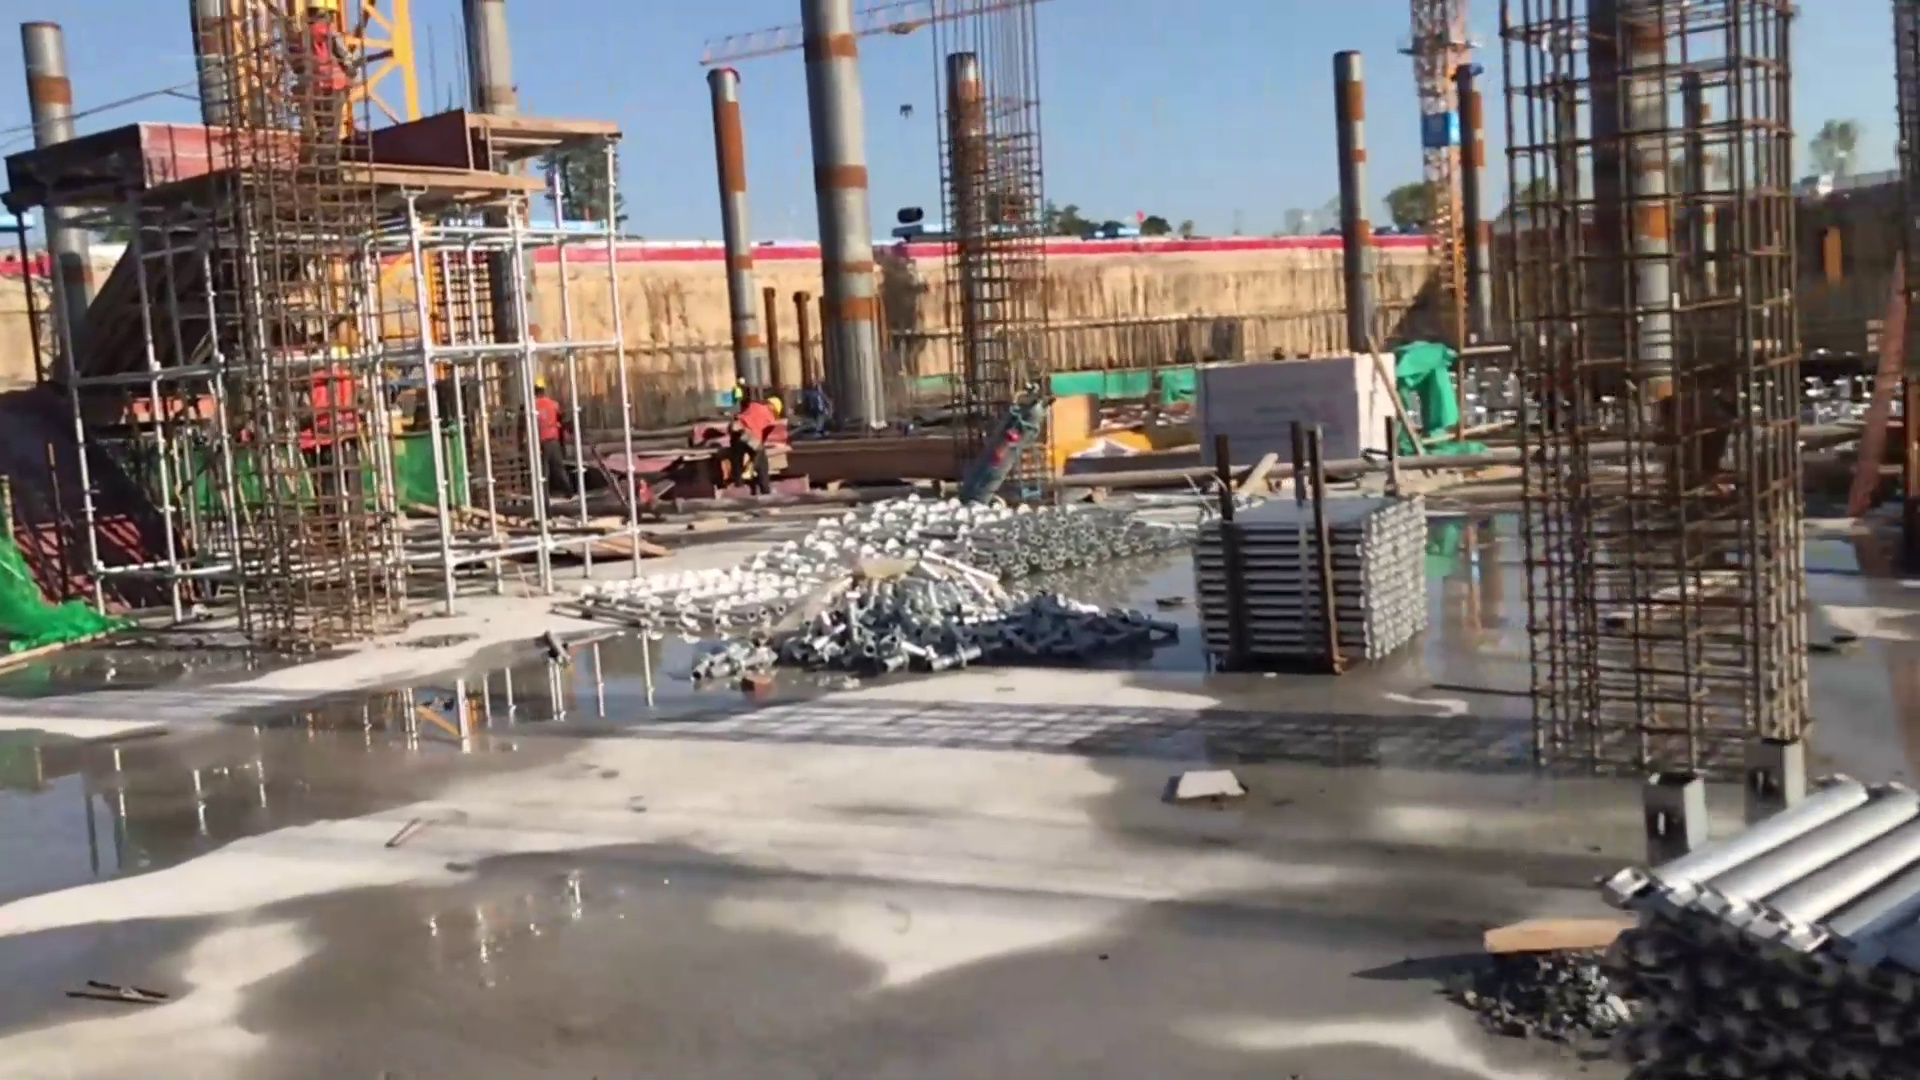helmet: (767, 396, 785, 415)
person: (729, 393, 792, 496), (529, 377, 574, 503)
scaffold: (1589, 779, 1920, 1080), (1190, 493, 1429, 664), (962, 508, 1177, 562)
